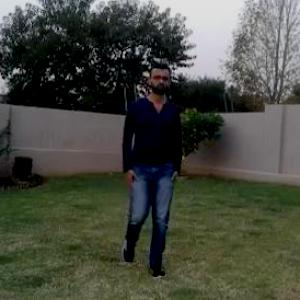follow: (124, 69, 180, 261)
